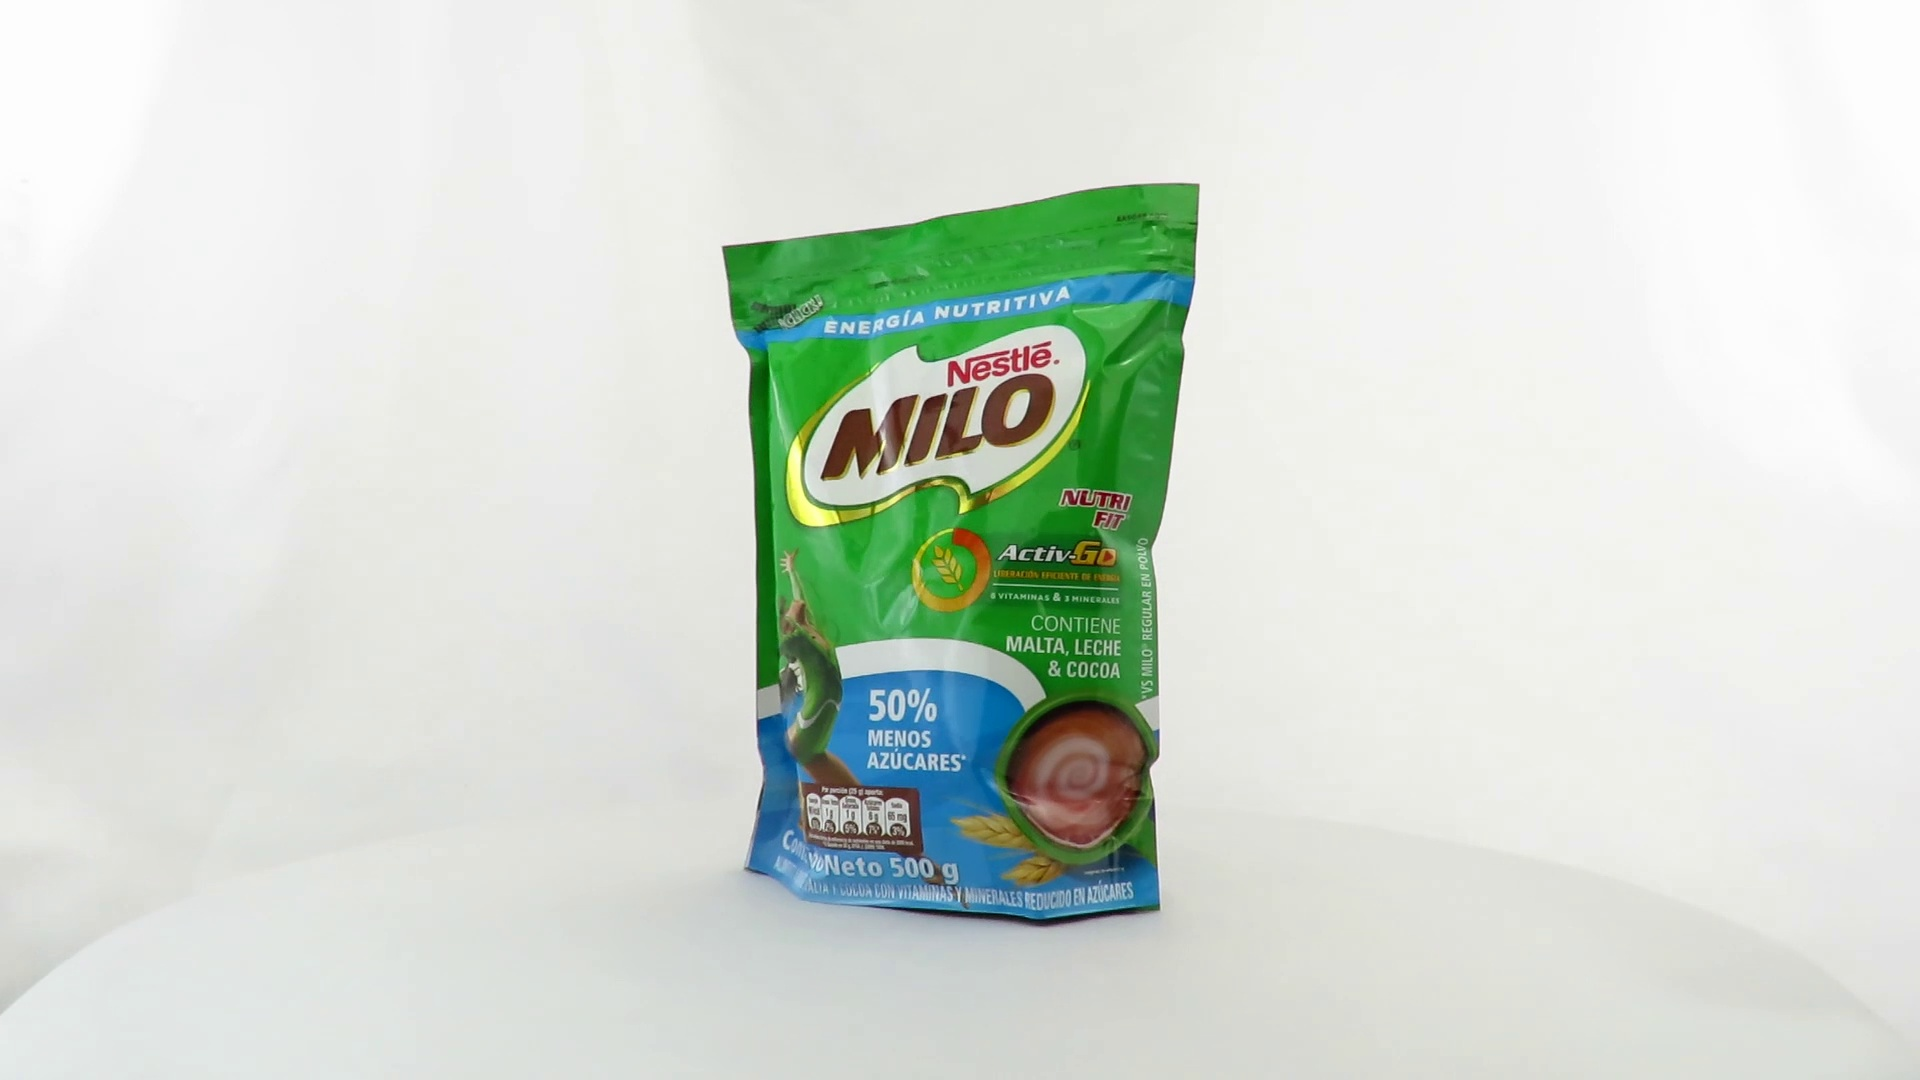COL0170205DYP50000: (717, 177, 1207, 934)
